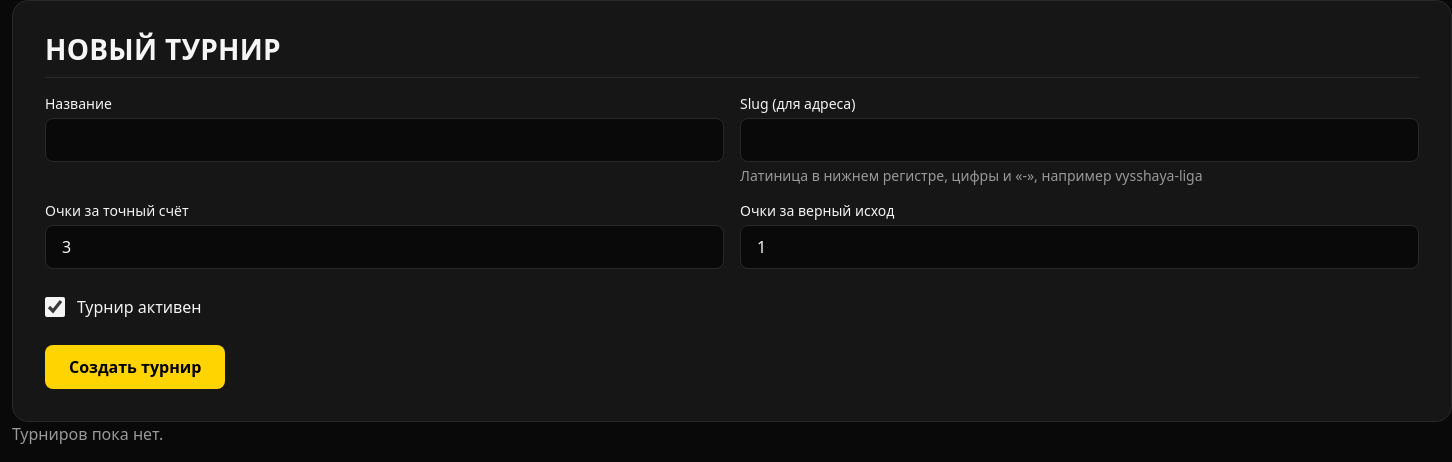
TournamentsManager › does not show a tournament the server refused
The width and height of the screenshot is (1452, 462).
Type "Кубок" into the field labelled "Название" at x=384, y=140, box [45,118,724,162]
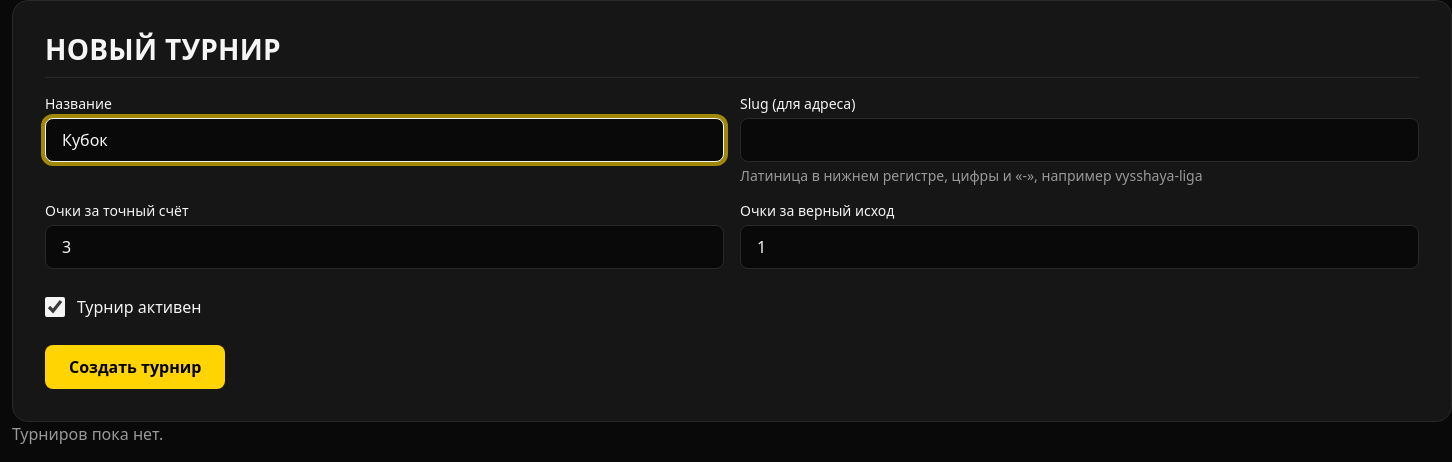
Type "kubok" into the field labelled "Slug (для адреса)" at x=1080, y=140, box [740,118,1419,162]
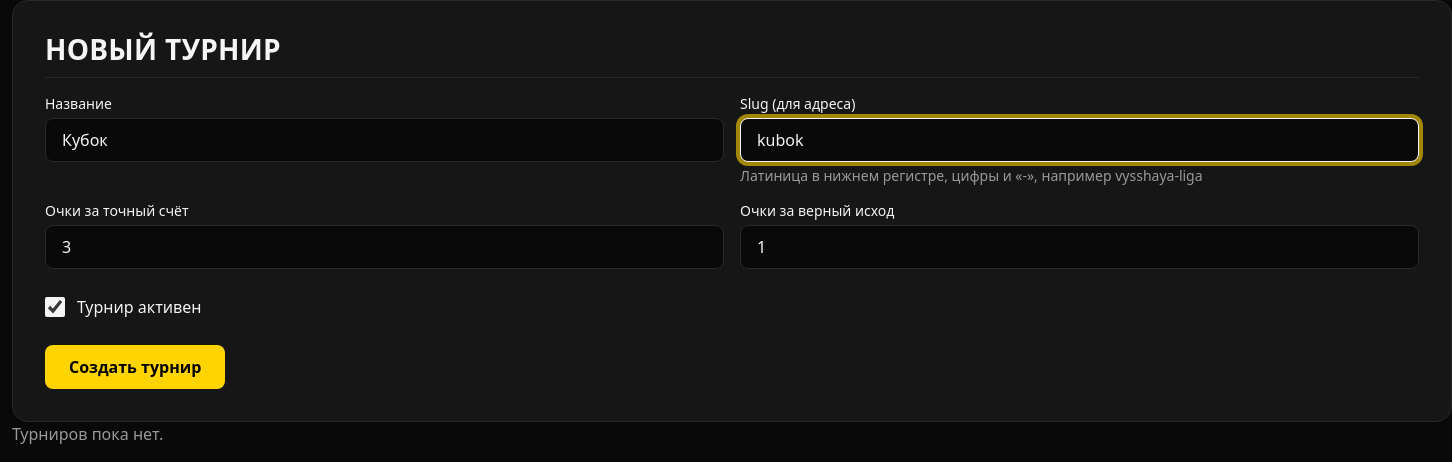
Click the button "Создать турнир" at x=135, y=367, box [45,345,225,389]
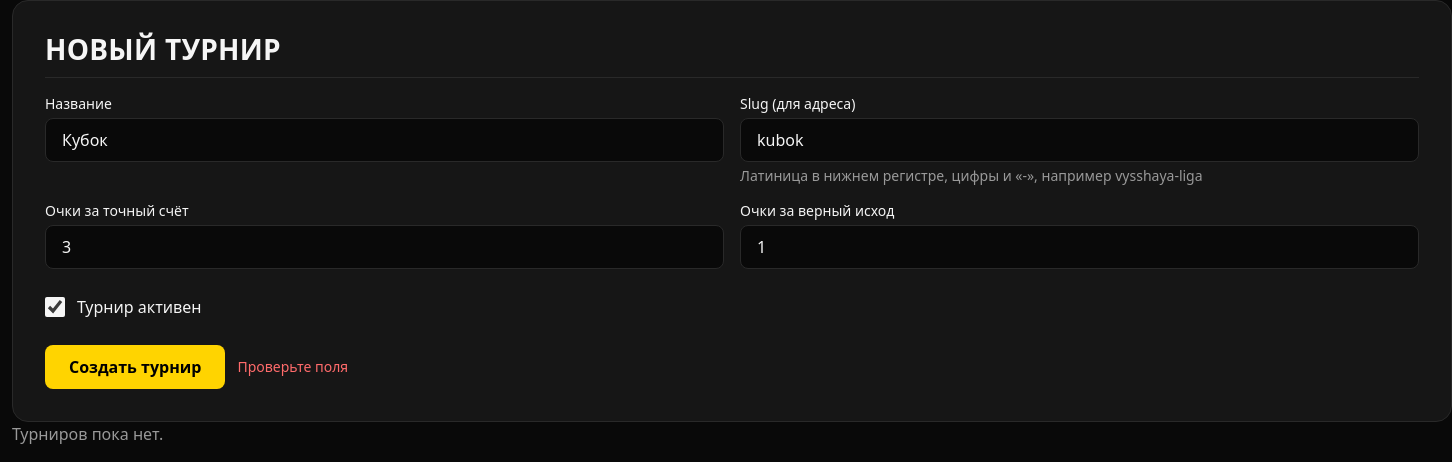
Expected: the text "Турниров пока нет." is shown, [12,423,163,445]
Expected: the text "Проверьте поля" is shown, [237,357,348,376]
